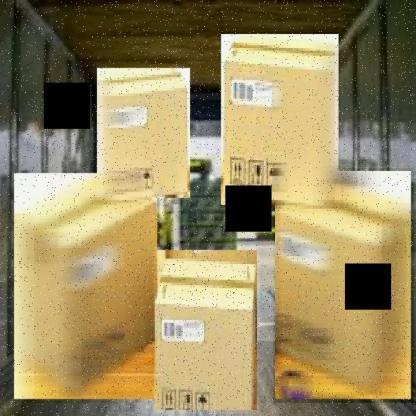-: (13, 170, 160, 403), (273, 168, 414, 403), (220, 32, 341, 208), (154, 247, 259, 414), (97, 67, 192, 201)
